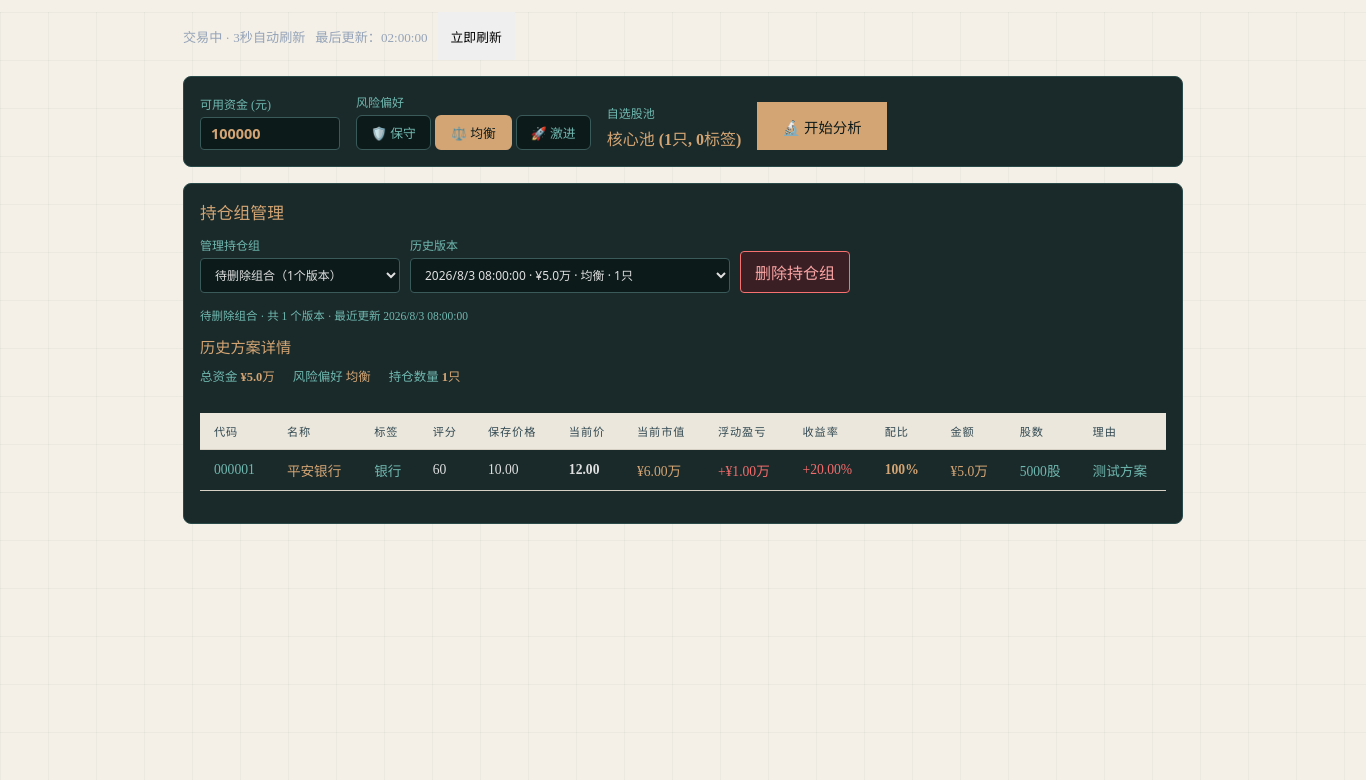
Test case: AiPortfolioAllocationWorkspace portfolio groups › deletes a portfolio group after confirmation
Click the button "删除持仓组".
click(795, 272)  # box top-left (740, 251), bottom-right (850, 293)
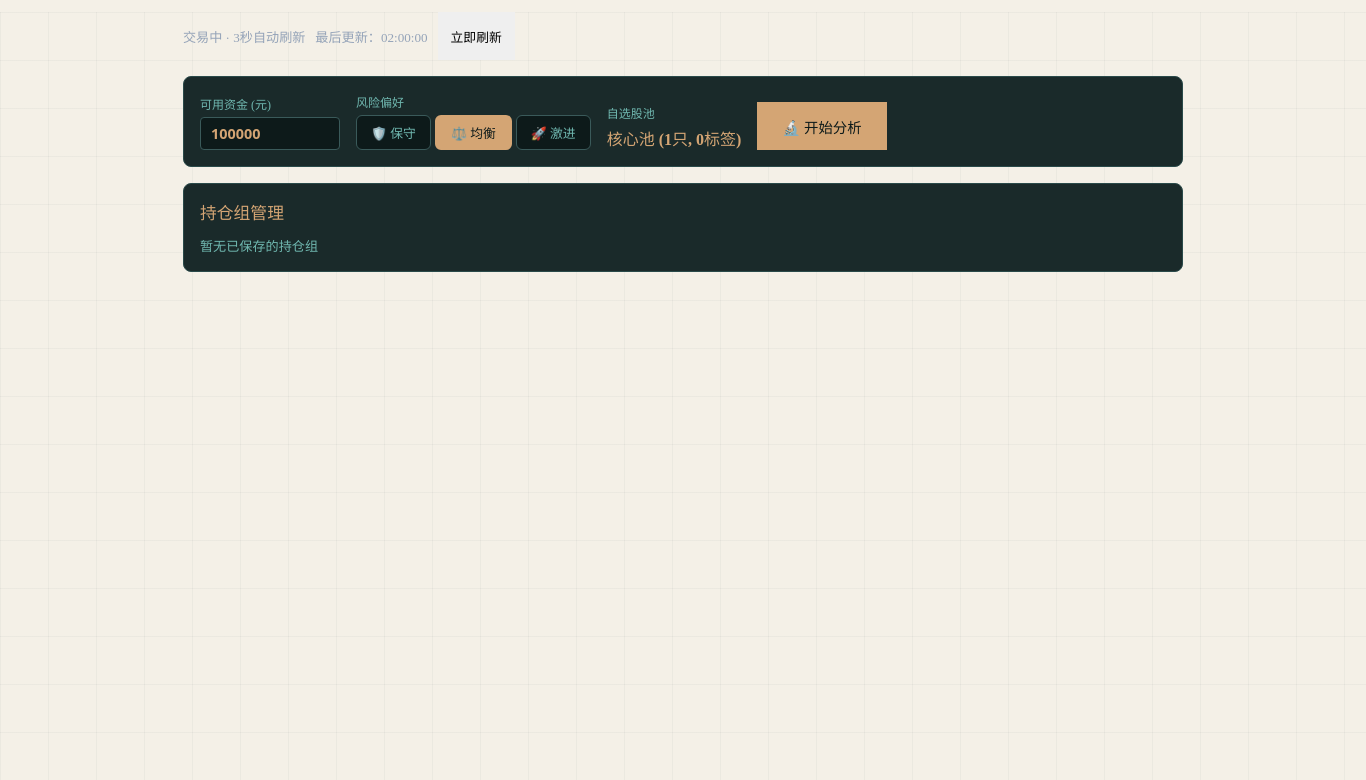
Expected: the text "暂无已保存的持仓组" is shown, top-left (200, 239), bottom-right (318, 254)
